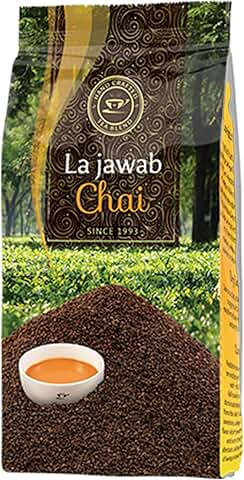Tea: (2, 6, 244, 480)
